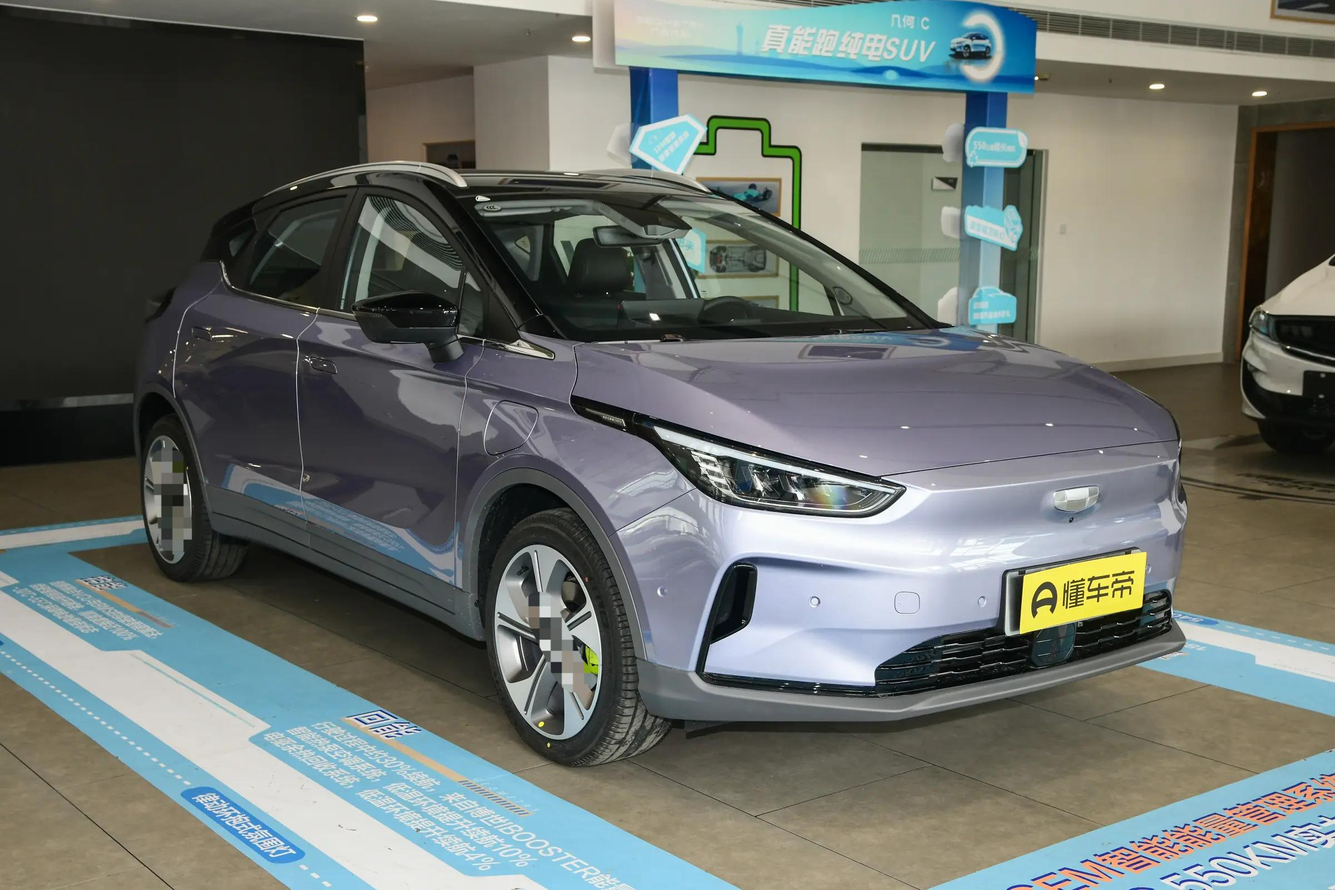GEOMETRY: (1054, 487, 1098, 512)
